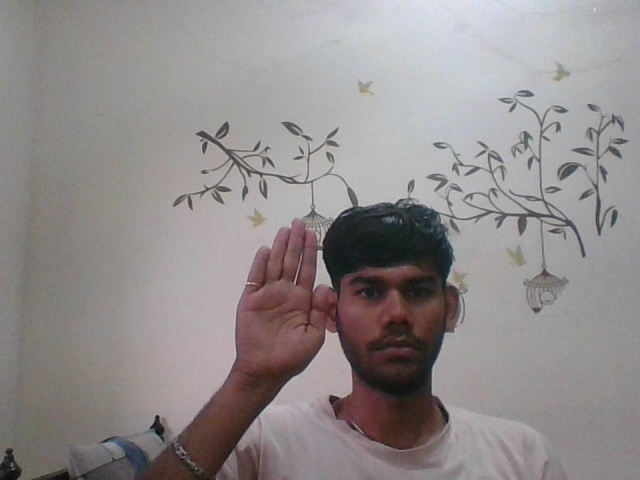Hello: (215, 215, 343, 384)
